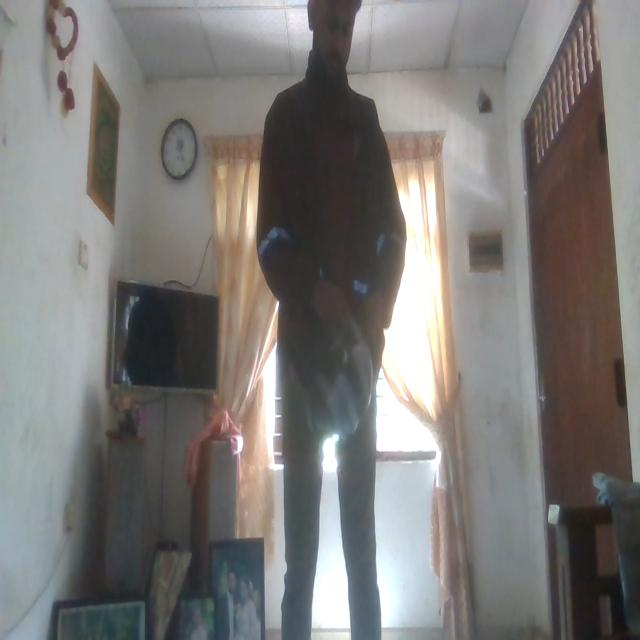Jacket_Wearer: (250, 79, 410, 454)
Person: (253, 2, 411, 640)
